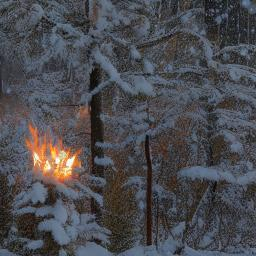Small fire: (26, 123, 84, 190)
